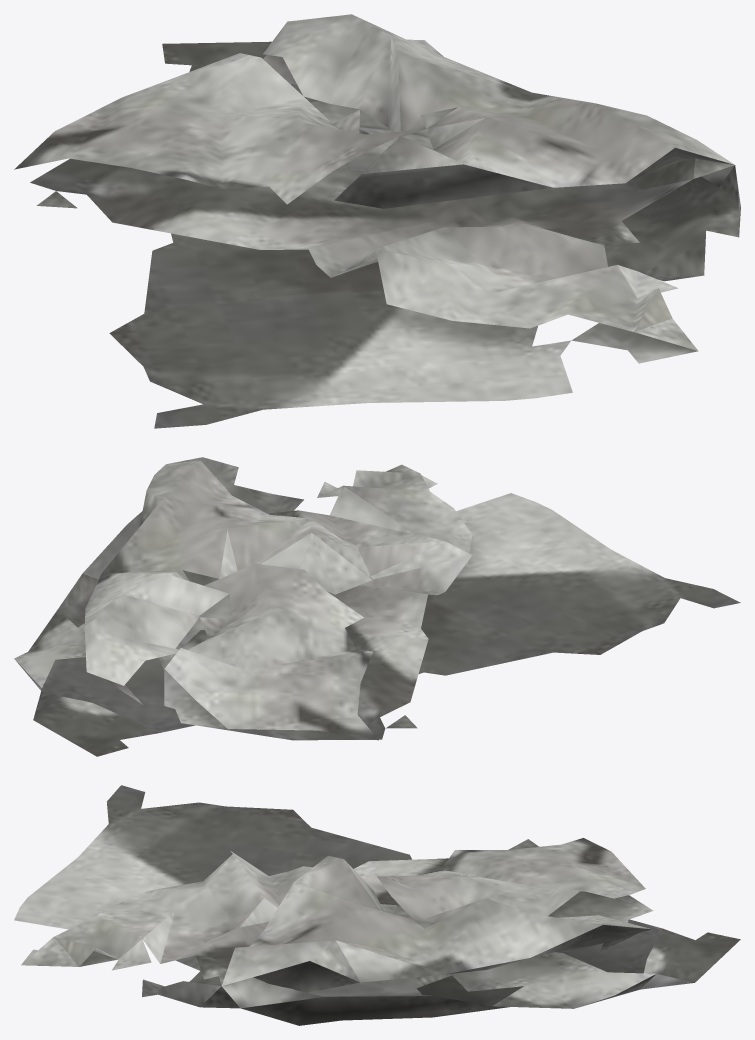
File: rag_sheet_scrap_1_lod1_web.glb
3 views of the same model, one above another, from view 1: azimuth 30°, elevation 25°; view 2: azimuth 150°, elevation 25°; view 3: azimuth 270°, elevation 25° (orthographic). The views are drawn at different scales.
Visible parts, largest first — view 1: rag_sheet_scrap_1_Cloth; view 2: rag_sheet_scrap_1_Cloth; view 3: rag_sheet_scrap_1_Cloth.
Boxes of the visible parts, bbox=[...] form: rag_sheet_scrap_1_Cloth: bbox=[14, 14, 740, 428]; rag_sheet_scrap_1_Cloth: bbox=[14, 457, 740, 756]; rag_sheet_scrap_1_Cloth: bbox=[14, 785, 740, 1025].
Bounding box in the file's own units: 0.3988 × 0.0582 × 0.4933.
Materials: 1 (1 with a texture image).
